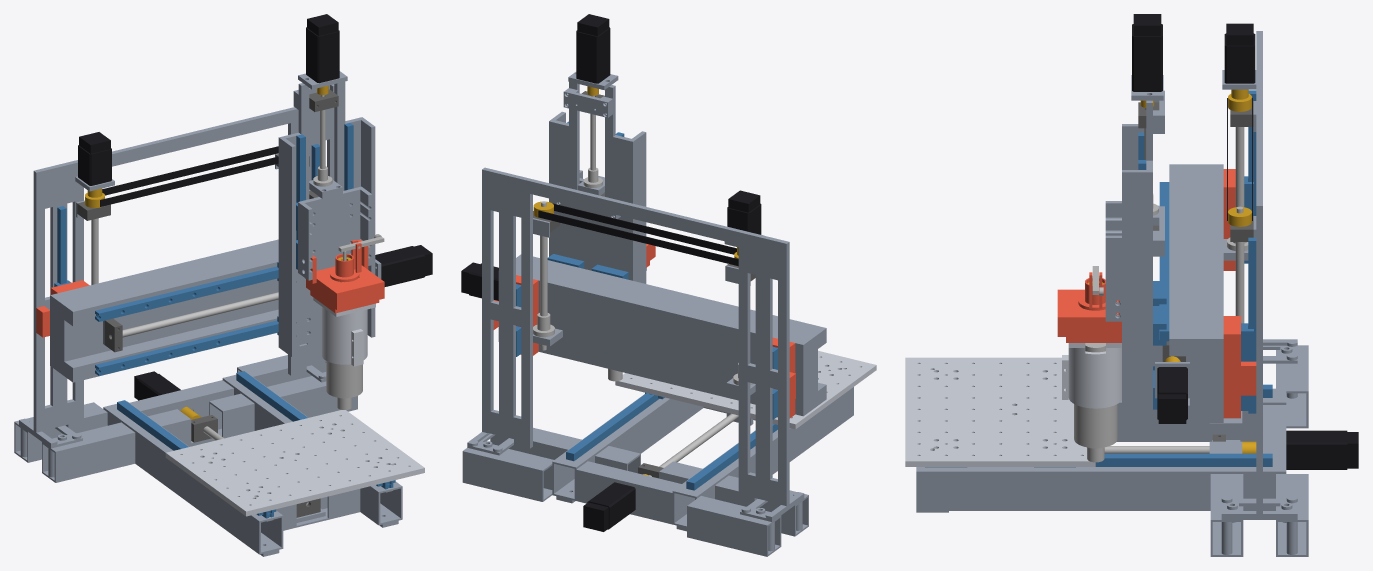
The model's file is pro_max.glb.
3 views of the same model, side by side, from view 1: azimuth 30°, elevation 25°; view 2: azimuth 150°, elevation 25°; view 3: azimuth 270°, elevation 25° (orthographic). The views are drawn at different scales.
Parts seen in each view (by area): view 1: table, beam, x_carriage, frame_cross_rear, upright_L, frame_longeron_L, z_slide, lift_tie, frame_longeron_R, head_mount, frame_cross_bk, tooldock_master (+22 smaller); view 2: beam, upright_L, upright_R, frame_cross_rear, x_carriage, lift_tie, frame_longeron_R, table, frame_longeron_L, frame_cross_end, z_motor, y_motor (+10 smaller); view 3: table, frame_longeron_R, beam, x_carriage, frame_cross_rear, upright_R, head_mount, frame_longeron_L, y_motor, z_motor, y_rail_R, head_spindle (+17 smaller).
Boxes of the visible parts, x1=… form: table: x1=165, y1=410, x2=424, y2=516; beam: x1=50, y1=239, x2=381, y2=382; x_carriage: x1=278, y1=81, x2=375, y2=356; frame_cross_rear: x1=14, y1=355, x2=357, y2=482; upright_L: x1=19, y1=175, x2=83, y2=448; frame_longeron_L: x1=103, y1=401, x2=283, y2=556; z_slide: x1=298, y1=186, x2=372, y2=280; lift_tie: x1=33, y1=107, x2=334, y2=184; frame_longeron_R: x1=222, y1=372, x2=402, y2=527; head_mount: x1=313, y1=297, x2=375, y2=366; frame_cross_bk: x1=148, y1=393, x2=254, y2=446; tooldock_master: x1=305, y1=239, x2=384, y2=309; beam: x1=498, y1=254, x2=826, y2=416; upright_L: x1=738, y1=245, x2=804, y2=521; upright_R: x1=467, y1=182, x2=532, y2=455; frame_cross_rear: x1=462, y1=427, x2=808, y2=556; x_carriage: x1=549, y1=81, x2=646, y2=283; lift_tie: x1=482, y1=167, x2=789, y2=256; frame_longeron_R: x1=552, y1=394, x2=703, y2=503; table: x1=615, y1=350, x2=876, y2=429; frame_longeron_L: x1=672, y1=387, x2=853, y2=531; frame_cross_end: x1=576, y1=461, x2=681, y2=524; z_motor: x1=576, y1=14, x2=610, y2=83; y_motor: x1=583, y1=482, x2=635, y2=531; table: x1=905, y1=357, x2=1095, y2=466; frame_longeron_R: x1=916, y1=457, x2=1286, y2=512; beam: x1=1155, y1=164, x2=1223, y2=422; x_carriage: x1=1122, y1=100, x2=1152, y2=421; frame_cross_rear: x1=1210, y1=345, x2=1308, y2=556; upright_R: x1=1221, y1=220, x2=1297, y2=519; head_mount: x1=1062, y1=343, x2=1121, y2=408; frame_longeron_L: x1=1116, y1=388, x2=1286, y2=441; y_motor: x1=1286, y1=430, x2=1358, y2=469; z_motor: x1=1132, y1=14, x2=1162, y2=91; y_rail_R: x1=1095, y1=453, x2=1272, y2=466; head_spindle: x1=1074, y1=343, x2=1117, y2=462.
Bounding box in the file's own units: 893 × 1025 × 833.
